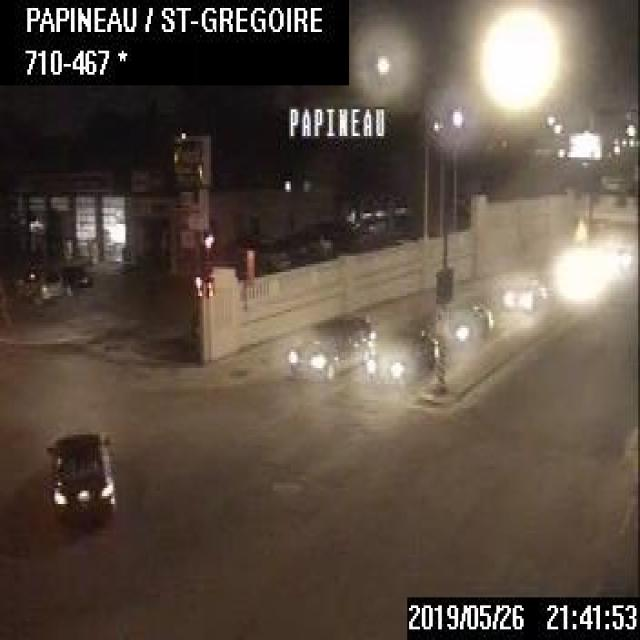vehicle: (49, 427, 115, 520), (284, 313, 369, 384), (365, 328, 436, 387), (427, 296, 493, 354), (14, 260, 64, 306), (501, 275, 544, 309)
